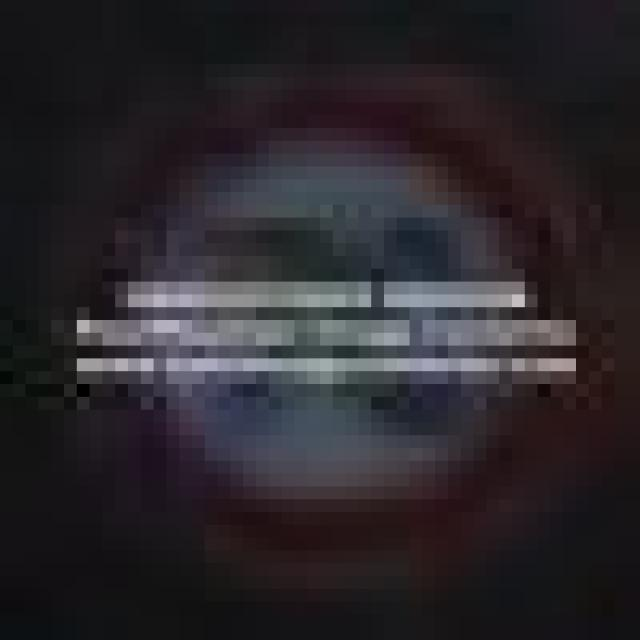SPEED_LIMIT_70: (64, 76, 563, 538)
